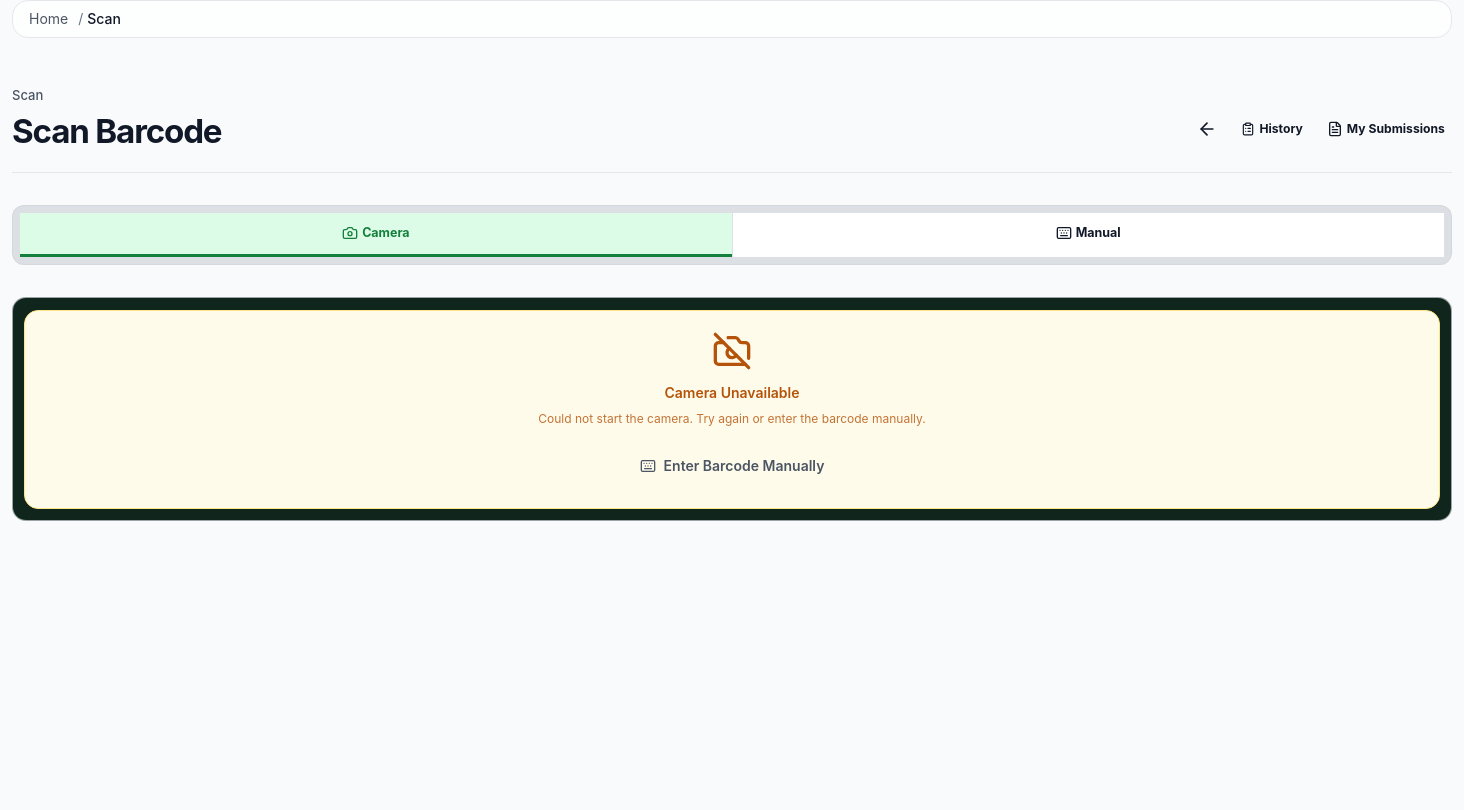
it: ScanPage › shows error state when lookup fails
Click the button "Manual" at (1088, 235), box [732,213,1444,257]
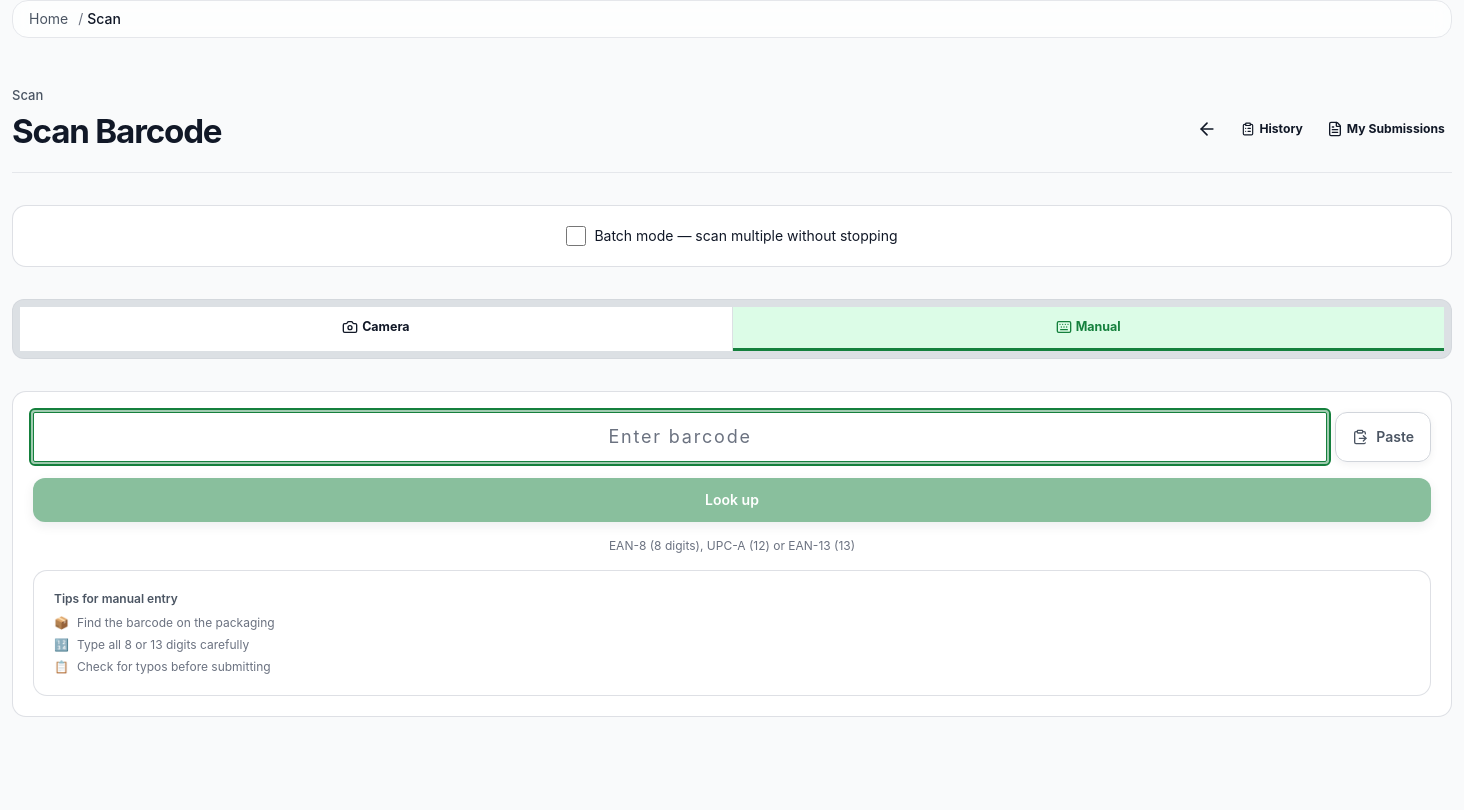
Type "5901234123457" into the field with placeholder "Enter barcode" at (680, 437), box [33,412,1327,462]
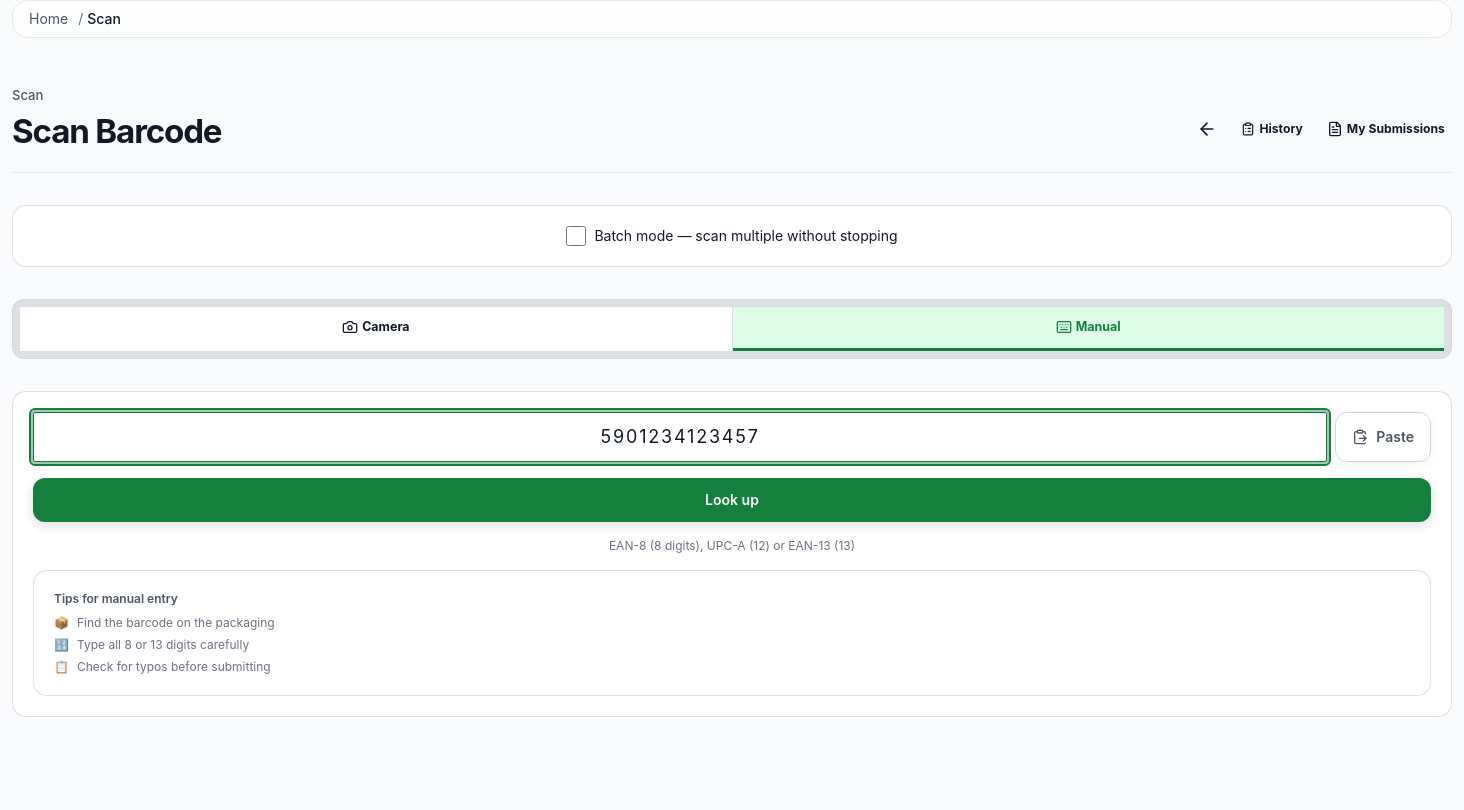
Click the button "Look up" at (732, 500), box [33,478,1431,522]
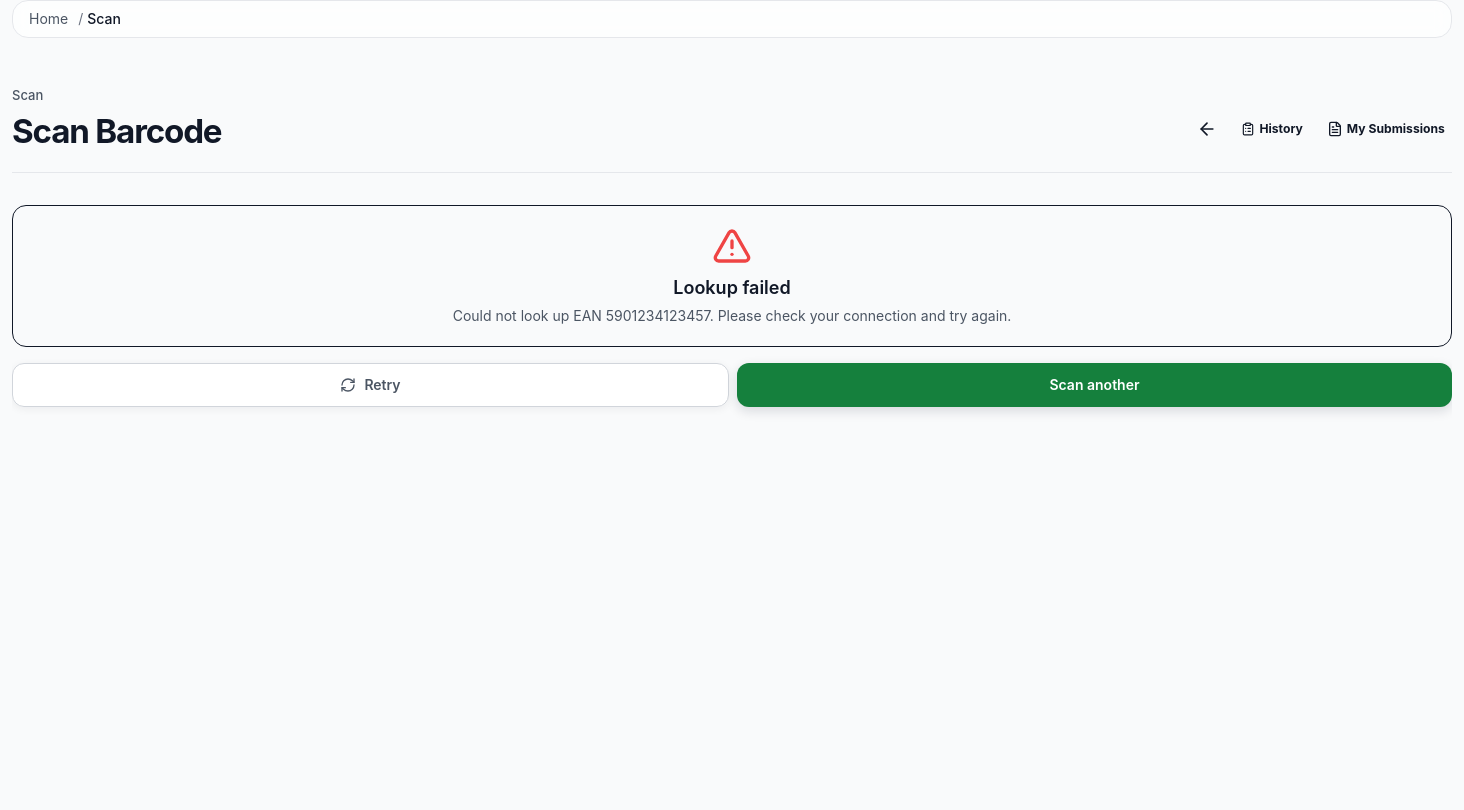
Check: the text "Lookup failed" is shown, box [673,277,791,298]
Check: the button "Scan another" is shown, box [737,363,1452,407]
